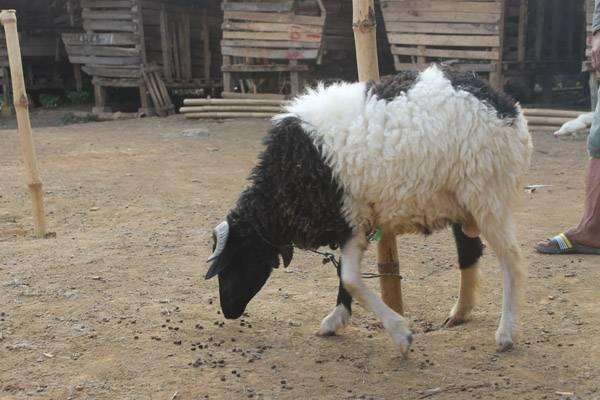Sheep: (195, 201, 290, 322)
